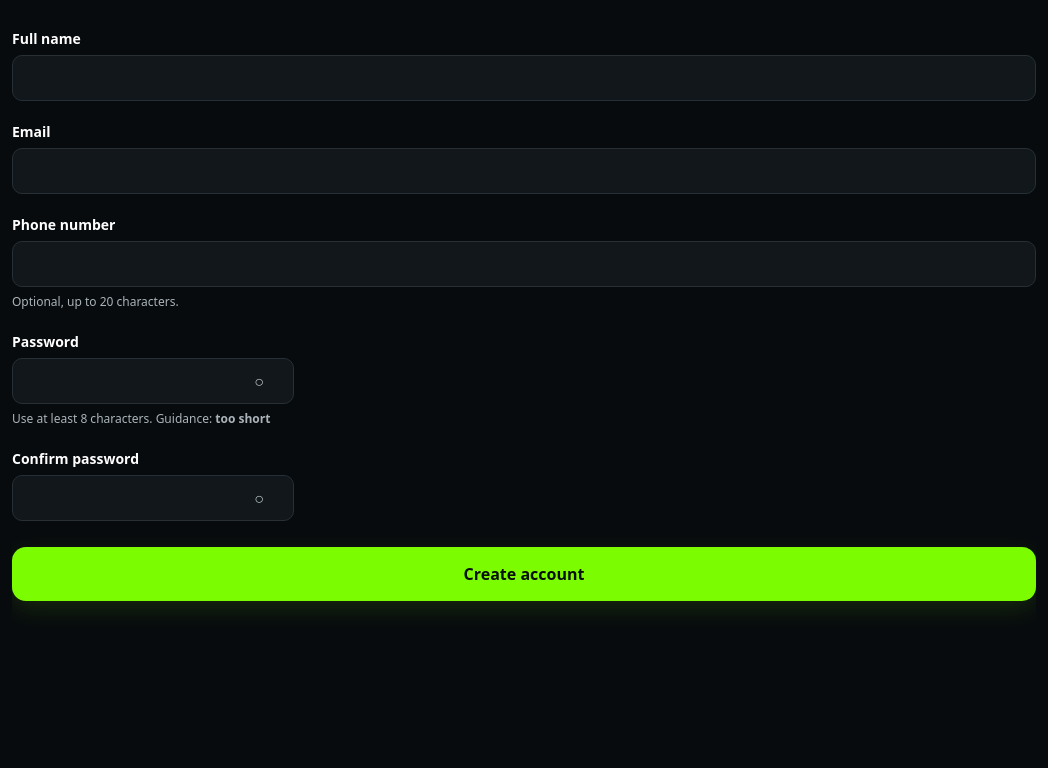
Test: AuthForm V2 › maps duplicate account without enumeration detail
Type "Mona Ali" into the field labelled "Full name" at (524, 78), box [13,56,1035,100]
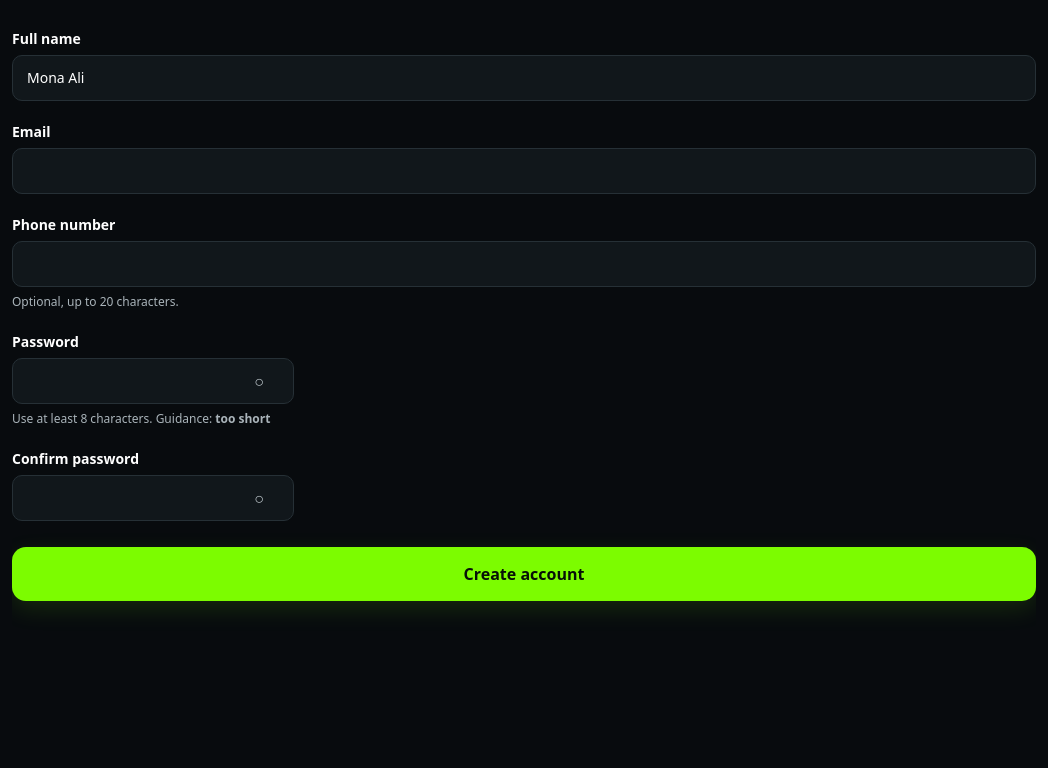
Type "player@example.com" into the field labelled "Email" at (524, 171), box [13,149,1035,193]
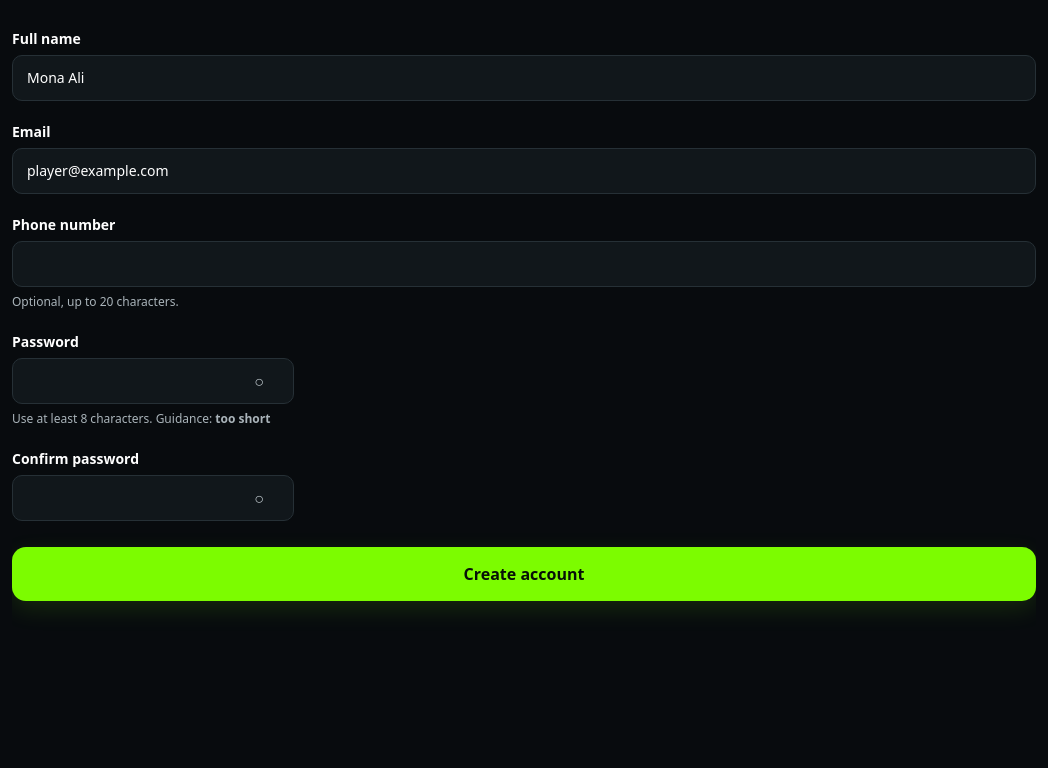
Type "password1" into the password field labelled "Password" at (125, 381), box [13,359,237,403]
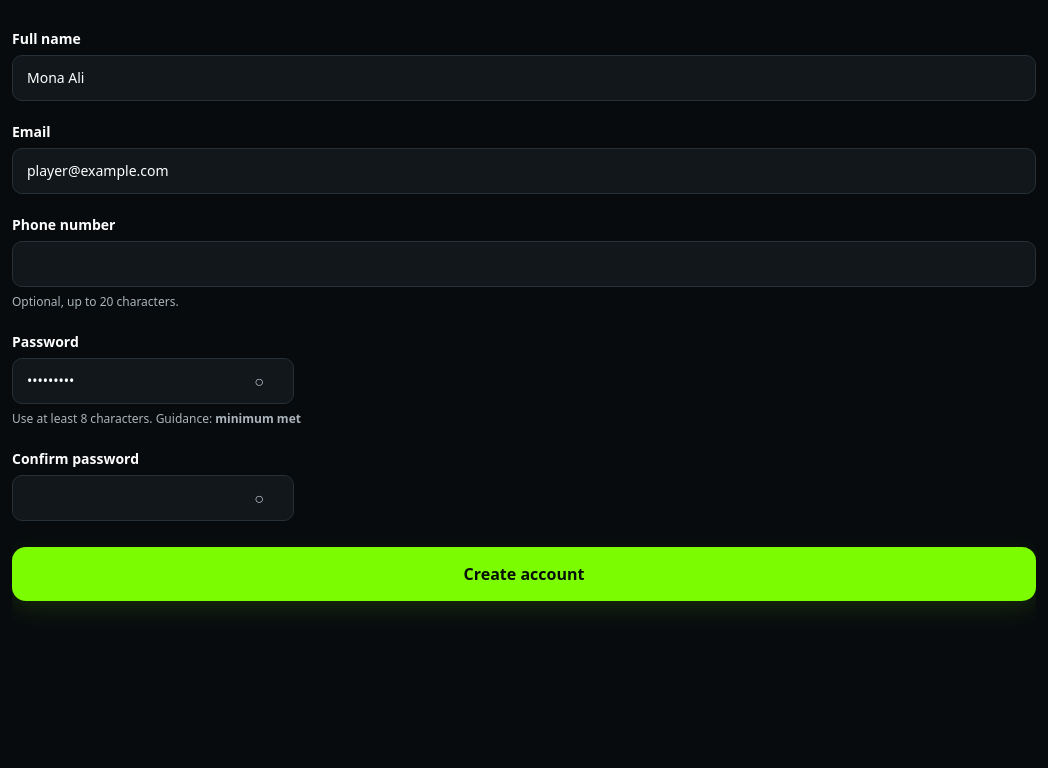
Type "password1" into the password field labelled "Confirm password" at (125, 498), box [13,476,237,520]
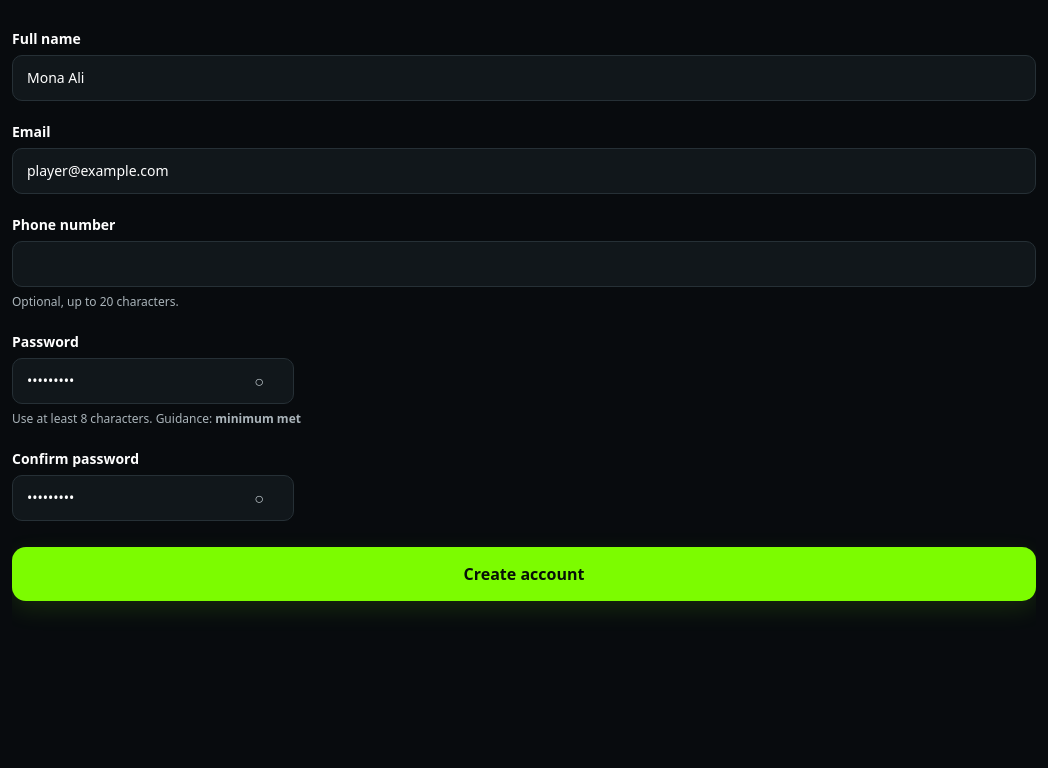
Submit the form
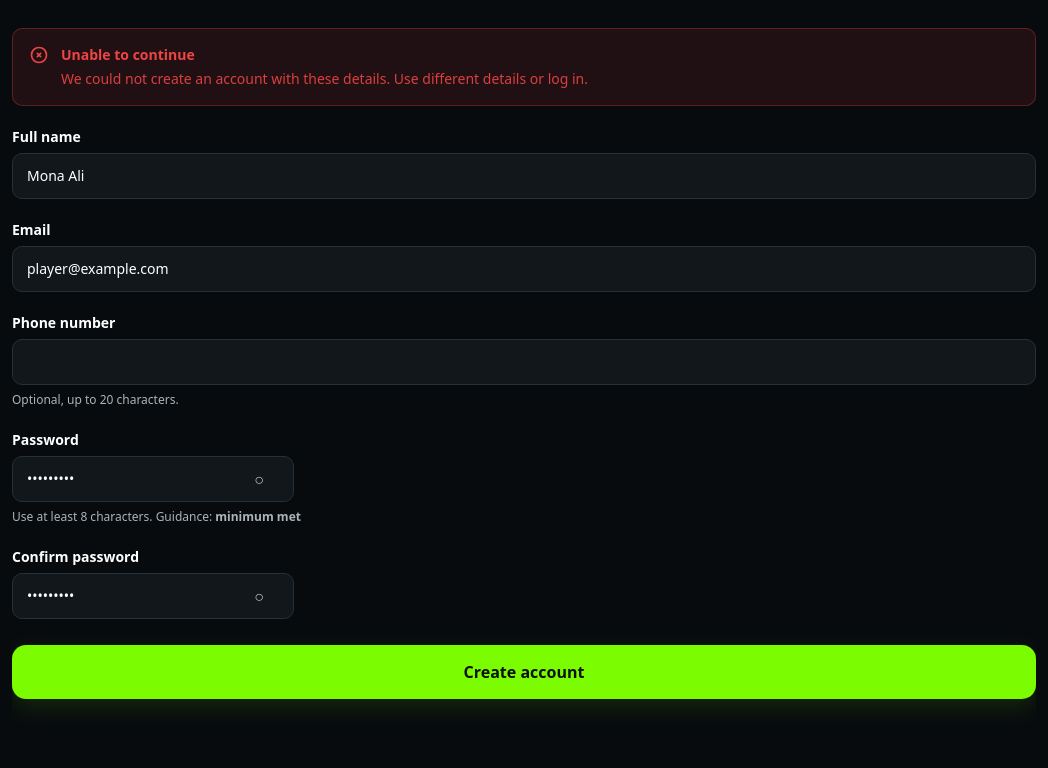
Expected: the message shows "could not create an account", [61,69,588,88]
